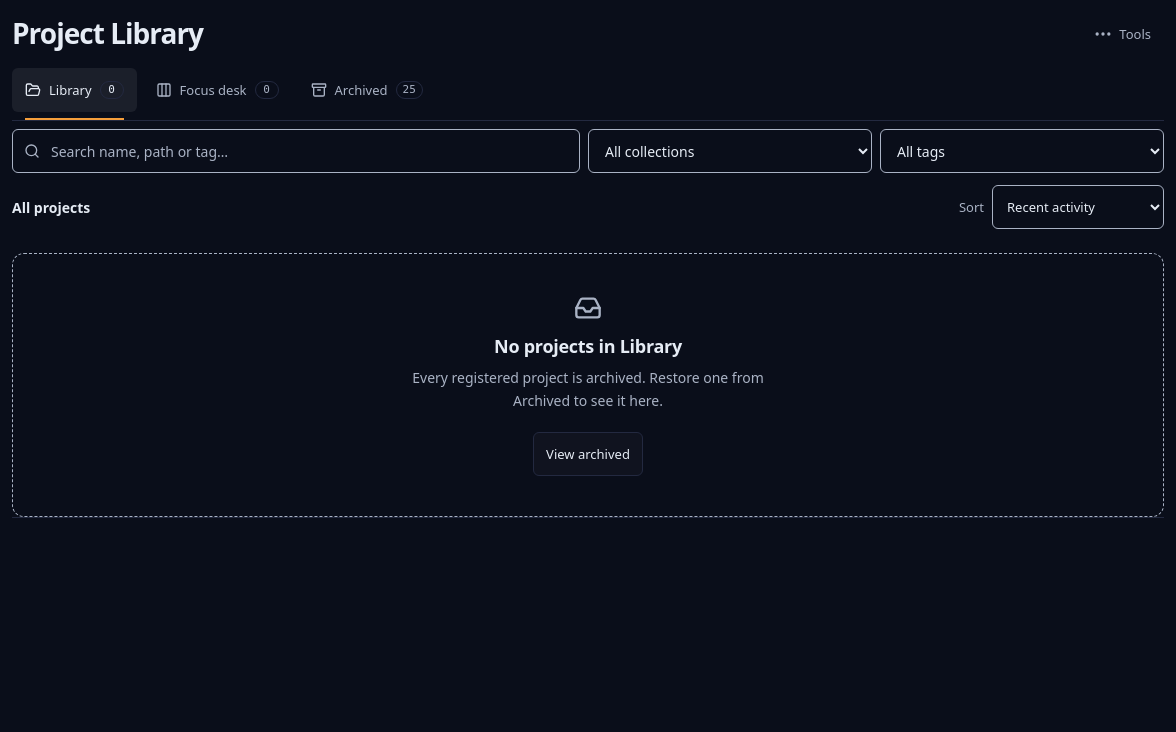
Test: offers top and bottom pagination, resets on filtering, and groups archive sorting away from search
This screenshot has width=1176, height=732.
Expected: the button "View archived" is shown, [533,432,643,476]
Click the button "Archived 25" at (367, 90), box [298,68,436,112]
(page scrolled)
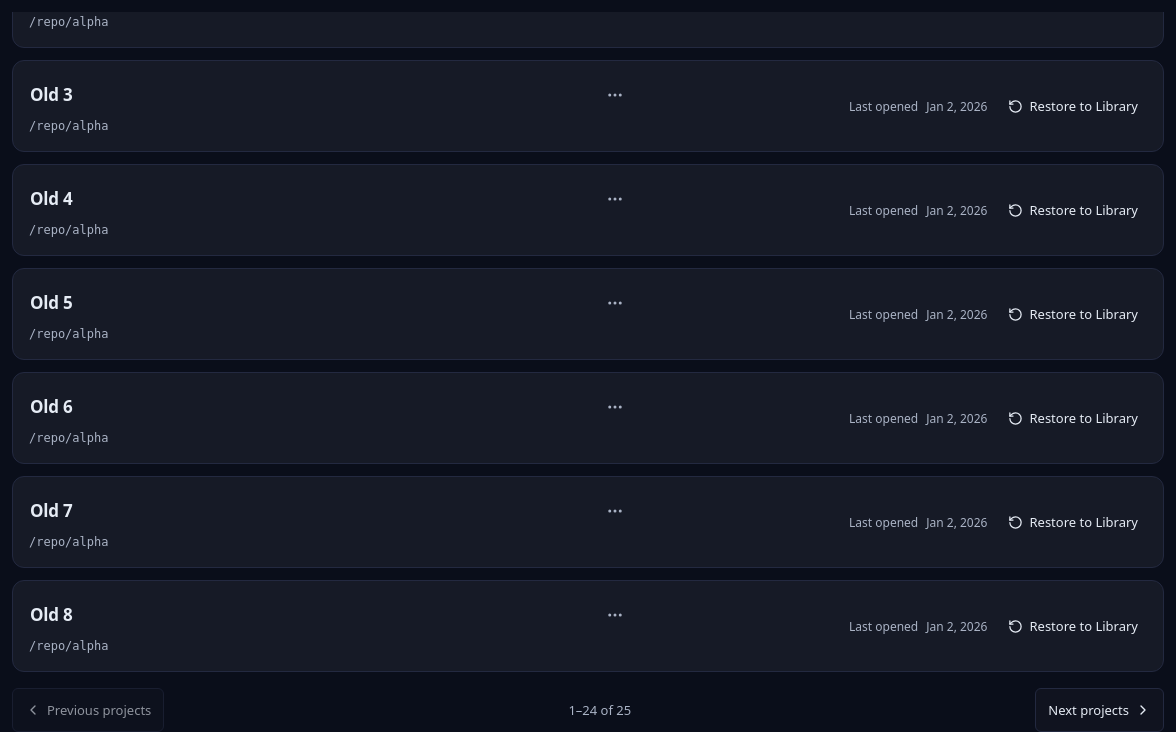
Click the button "Next projects" at (1100, 710), box [1035,688,1164,731]
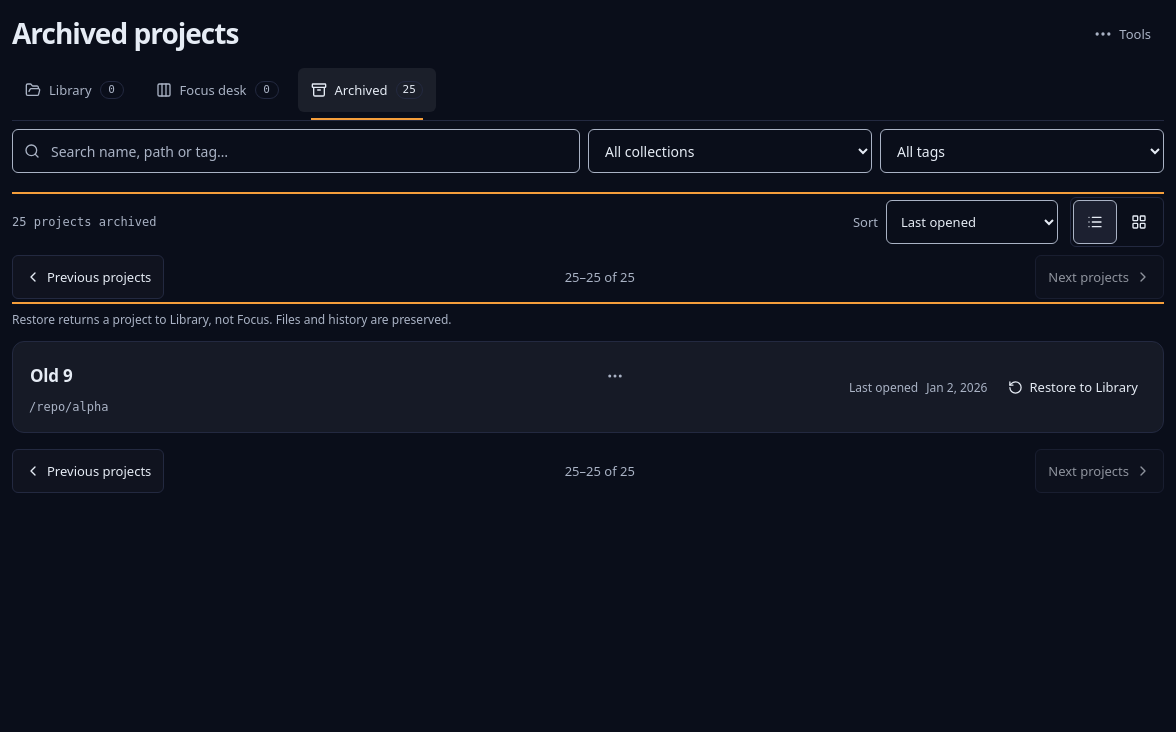
Expected: the navigation bar named "Project pages (top)" shows "25–25 of 25", [12,255,1164,299]
Type "Old 0" into the search field named "Search projects" at (296, 151), box [12,129,580,173]
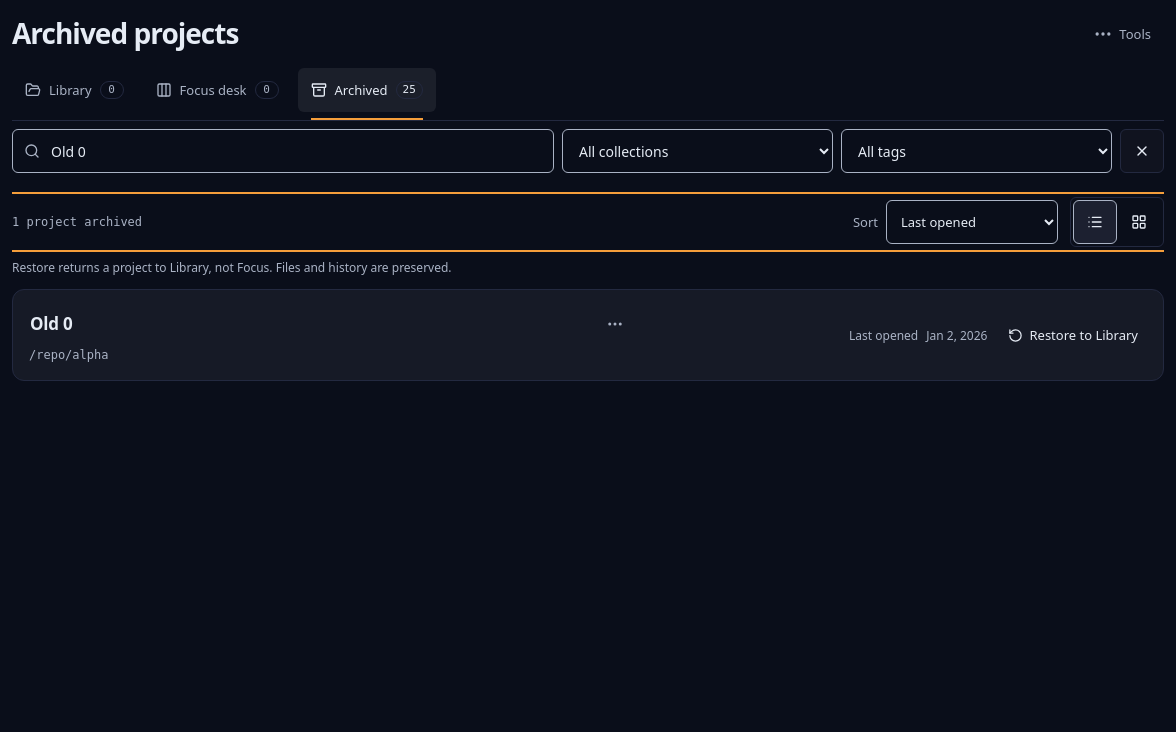
Expected: the element "Old 0" is shown, [12,289,1164,381]
